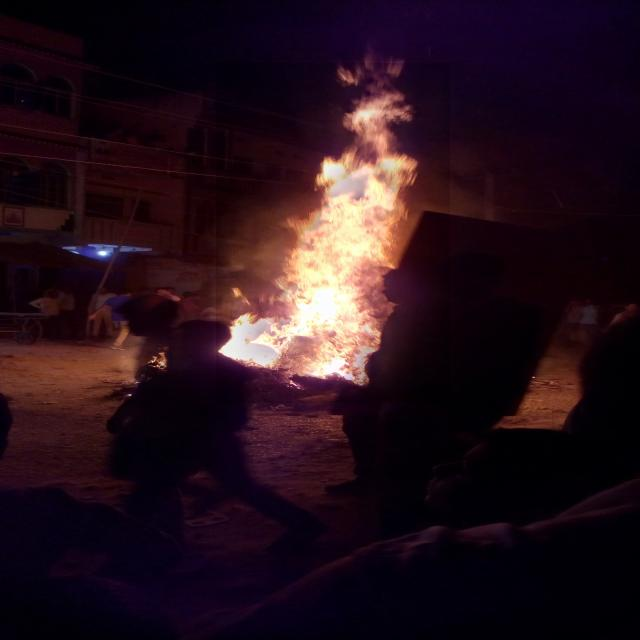Fire: (216, 63, 450, 403)
